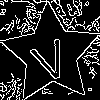V: (26, 29, 73, 84)
